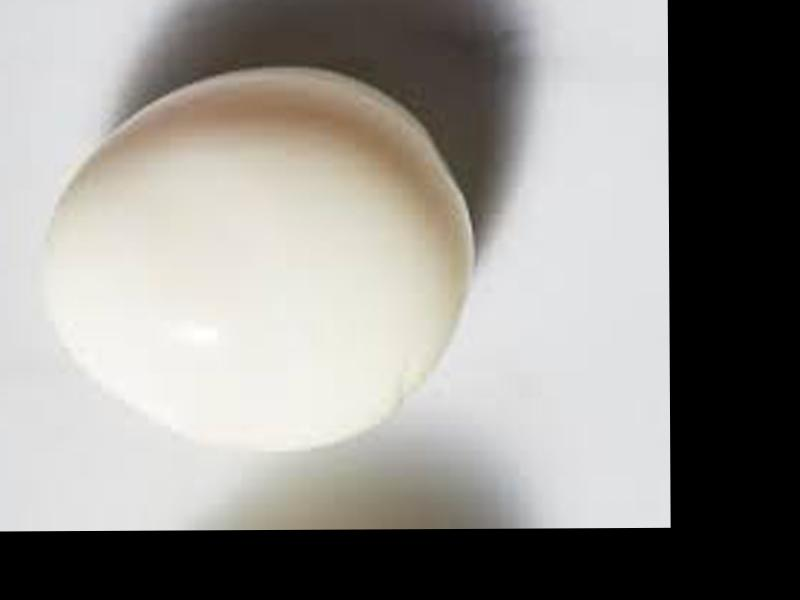Eggs: (45, 66, 476, 452)
